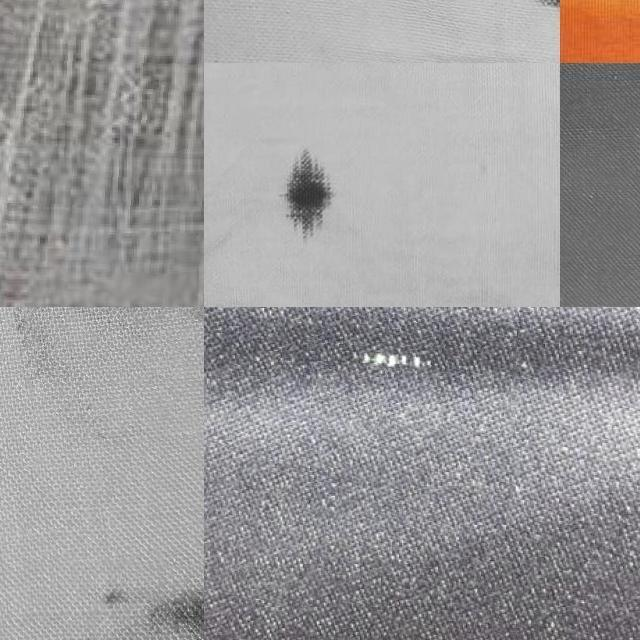Hole: (0, 307, 204, 453), (243, 124, 369, 264), (19, 561, 204, 640), (509, 0, 560, 40), (379, 0, 452, 17)
Thread_other: (312, 307, 518, 432)
